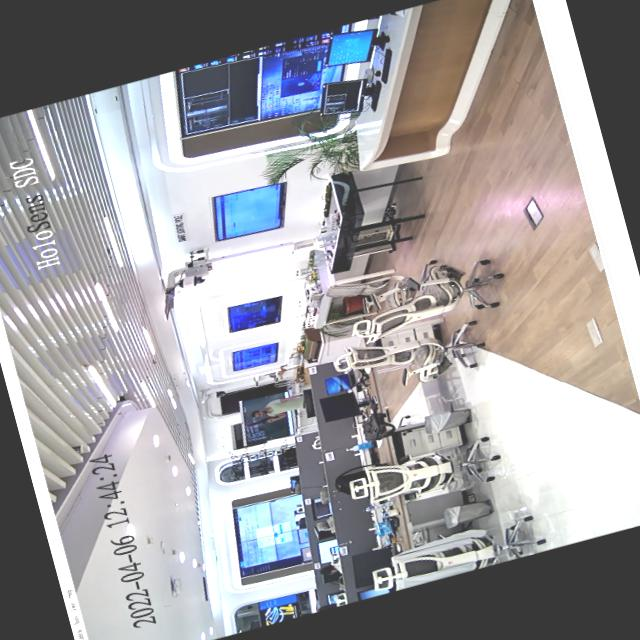long weapon: (240, 409, 287, 429)
